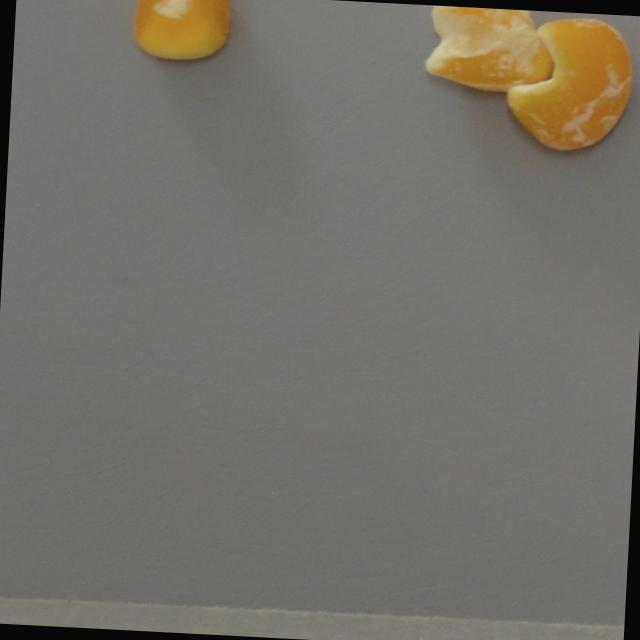no_canjicado: (130, 0, 235, 63)
pelicula: (505, 13, 637, 155), (426, 5, 540, 93)
